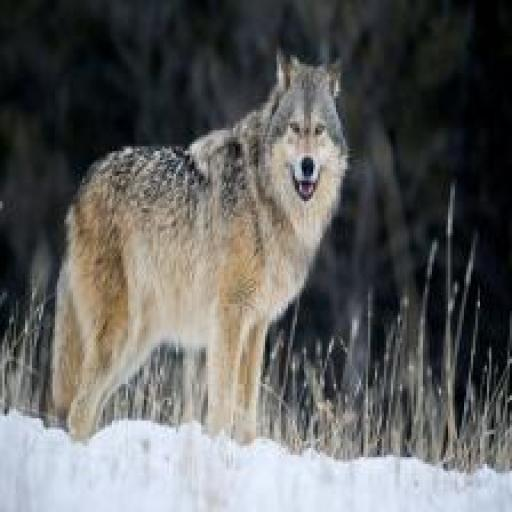wolf: (37, 14, 361, 496)
